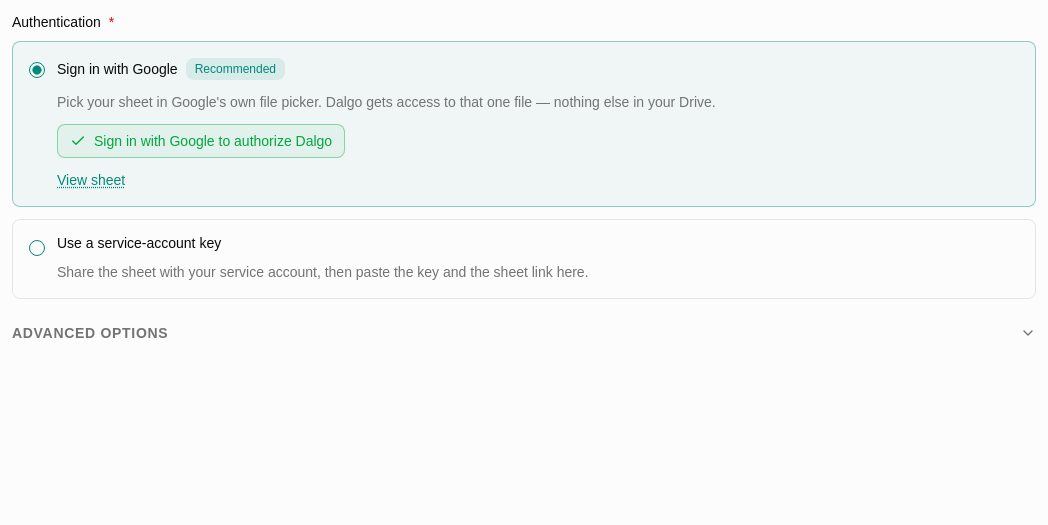
Test case: GoogleSheetsForm › once connected through Google › warns when the link on the service route is a different sheet
The image size is (1048, 525).
Click the radio button with test id "gsheets-service-option-radio": click(37, 248) [29,240,45,256]
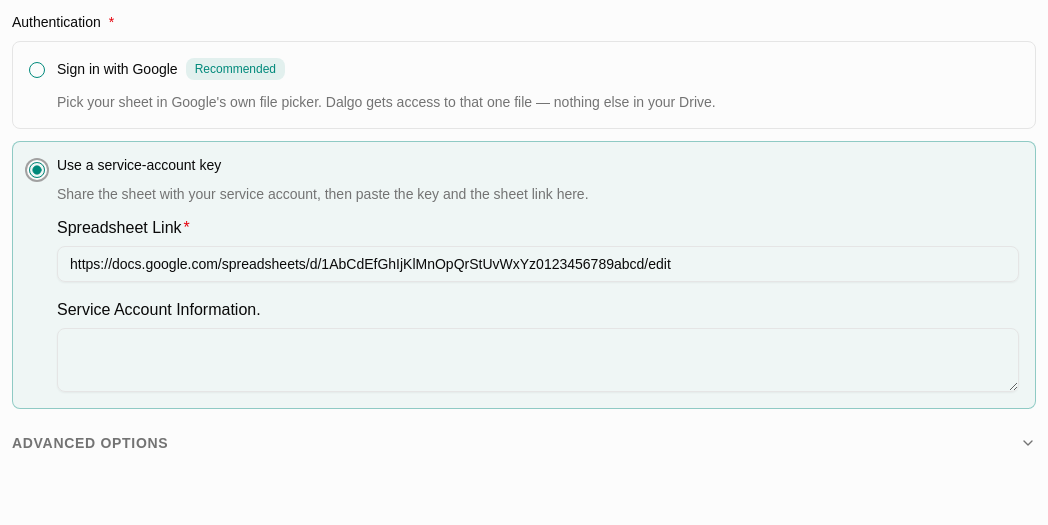
Replace the text in the field labelled "Spreadsheet Link*" with "https://docs.google.com/spreadsheets/d/9ZyXwVuTsRqPoNmLkJiHgFeDcBa9876543210zyxw/edit": (538, 264) [57,246,1019,282]
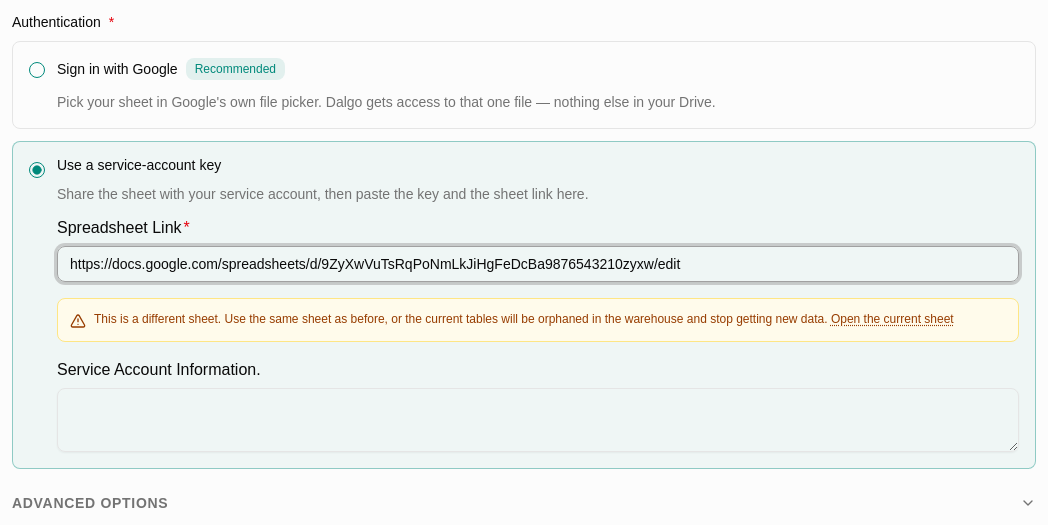
Result: the element with test id "gsheets-service-sheet-mismatch" shows "different sheet" at [94,312,828,326]
Result: the element with test id "gsheets-service-sheet-mismatch" shows "orphaned in the warehouse" at [94,312,828,326]
